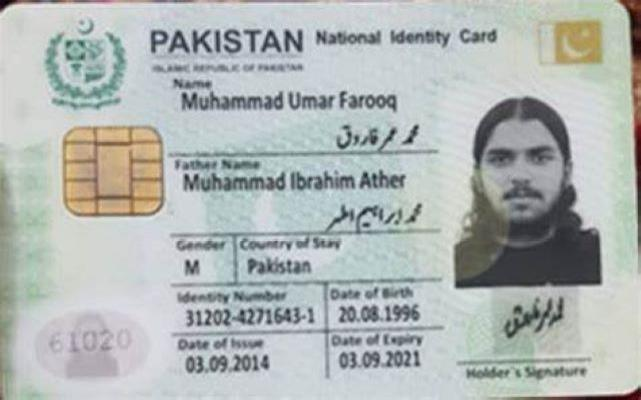fname: (181, 168, 408, 196)
name: (177, 85, 400, 116)
number: (180, 306, 320, 332)
